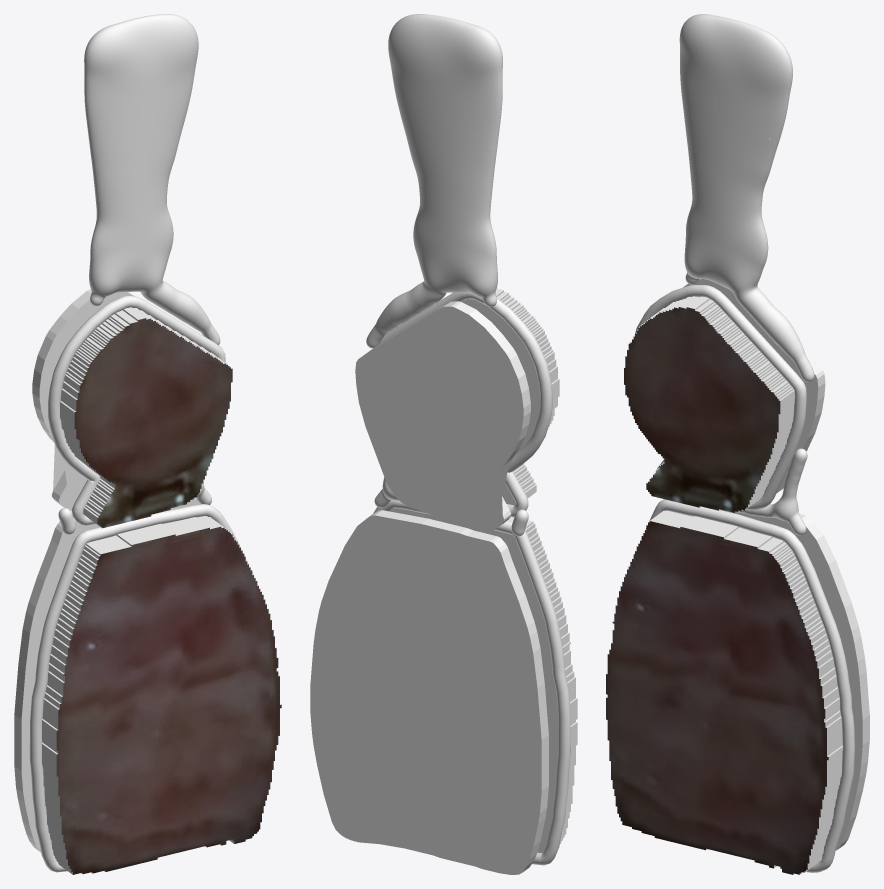
3 views of the same model, side by side, from view 1: azimuth 30°, elevation 25°; view 2: azimuth 150°, elevation 25°; view 3: azimuth 330°, elevation 25° (orthographic).
Parts seen in each view (by area): view 1: joya; view 2: joya; view 3: joya.
Part boxes in pixels (x1=…): joya: x1=14, y1=14, x2=281, y2=874; joya: x1=310, y1=14, x2=577, y2=874; joya: x1=606, y1=14, x2=869, y2=874.
Size of the model in its own units: 0.0116 by 0.0383 by 0.00325.
Materials: 3 (1 with a texture image).
